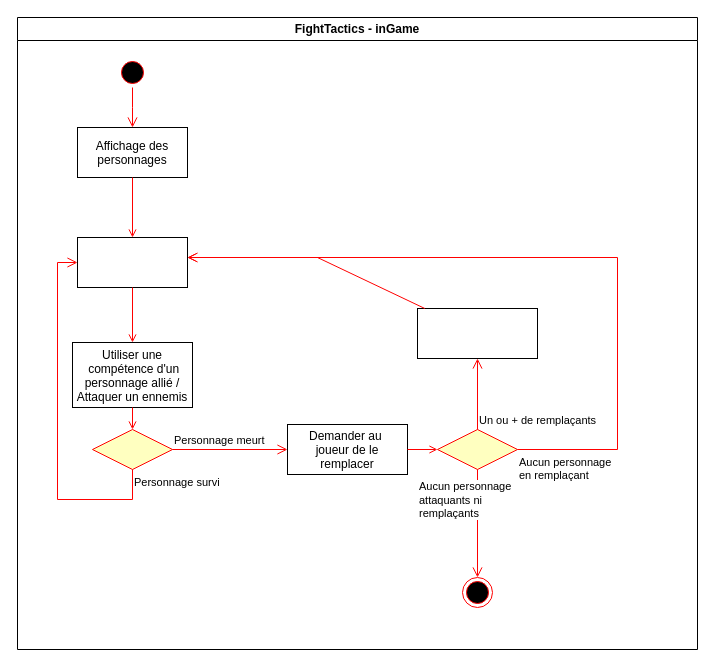
Image size: 715x667. Some labels were removed from this diagram. The shapes that lost their labels are listed below. From the top down, each one's centre as x and y in pixels, then its label:
At (132,262): "Tour N°X".
At (477,333): "Ajouter le remplaçant en tant qu'attaquant".
